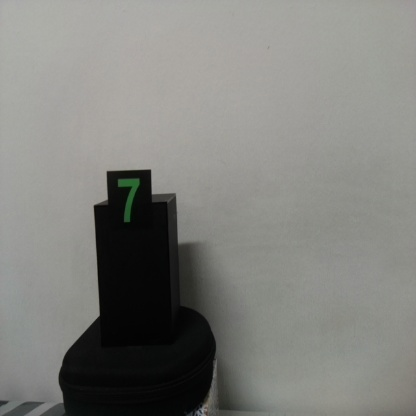id_7: (107, 171, 152, 244)
